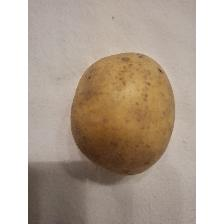Kartoffel: (68, 51, 180, 177)
